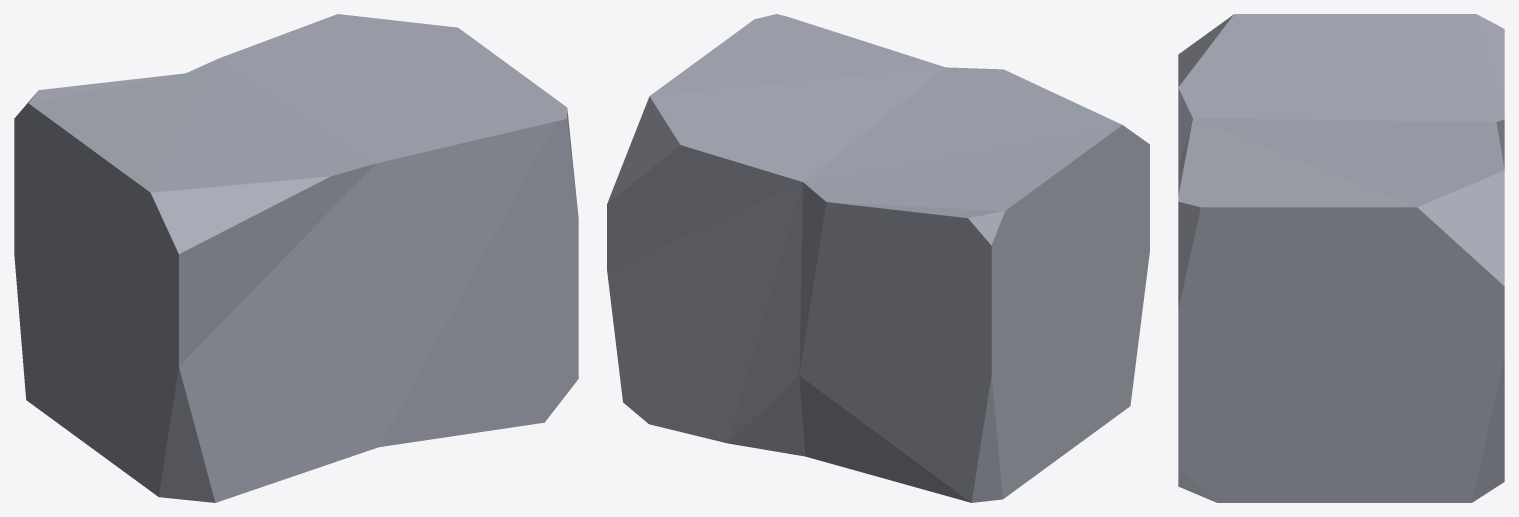
File: mod_bg_PierreMoyen.fbx
3 renders of one model, left to right at view 1: azimuth 30°, elevation 25°; view 2: azimuth 150°, elevation 25°; view 3: azimuth 270°, elevation 25°, orthographic. The views are drawn at different scales.
Visible parts, largest first — view 1: PierreMoyen; view 2: PierreMoyen; view 3: PierreMoyen.
Part boxes in pixels (x1,y1,x2,y2): PierreMoyen: [14, 14, 578, 502]; PierreMoyen: [607, 14, 1149, 502]; PierreMoyen: [1178, 14, 1504, 502].
Size of the model in its own units: 70.34 by 50.17 by 50.17.
